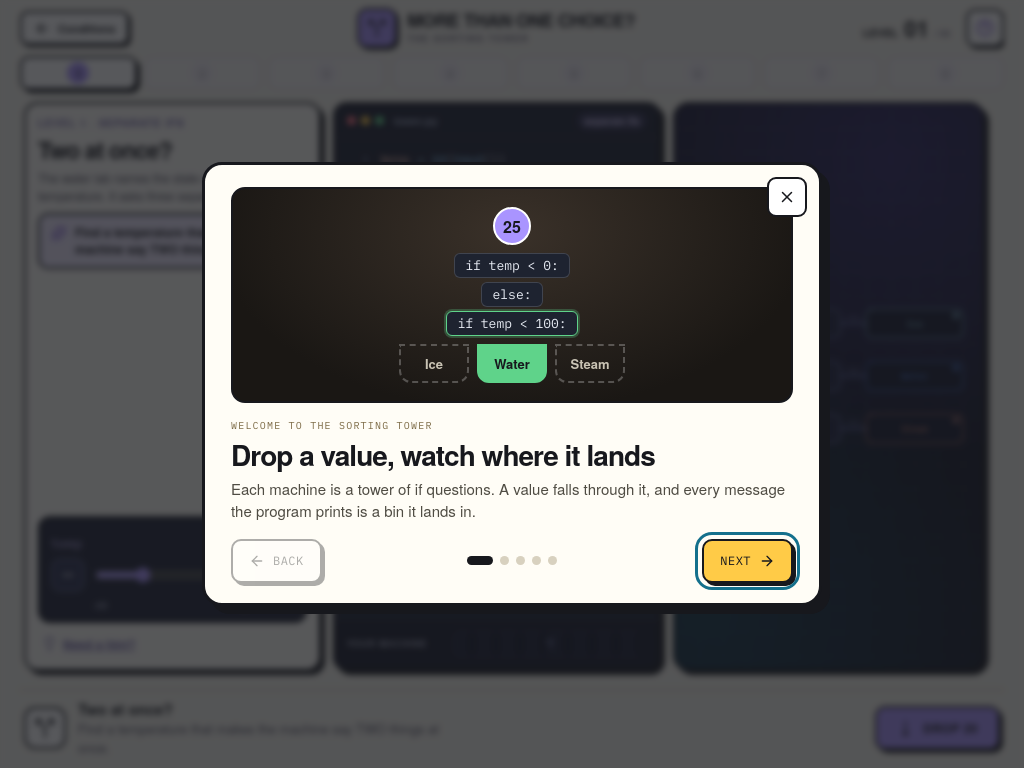
Test: More than one choice: the sorting tower › opens the intro on the first visit and again from the help button
Expected: the dialog named "Drop a value, watch where it lands" is shown, 202,162 -> 822,606
Click the button "NEXT" at (748, 561), box 702,539 -> 793,583
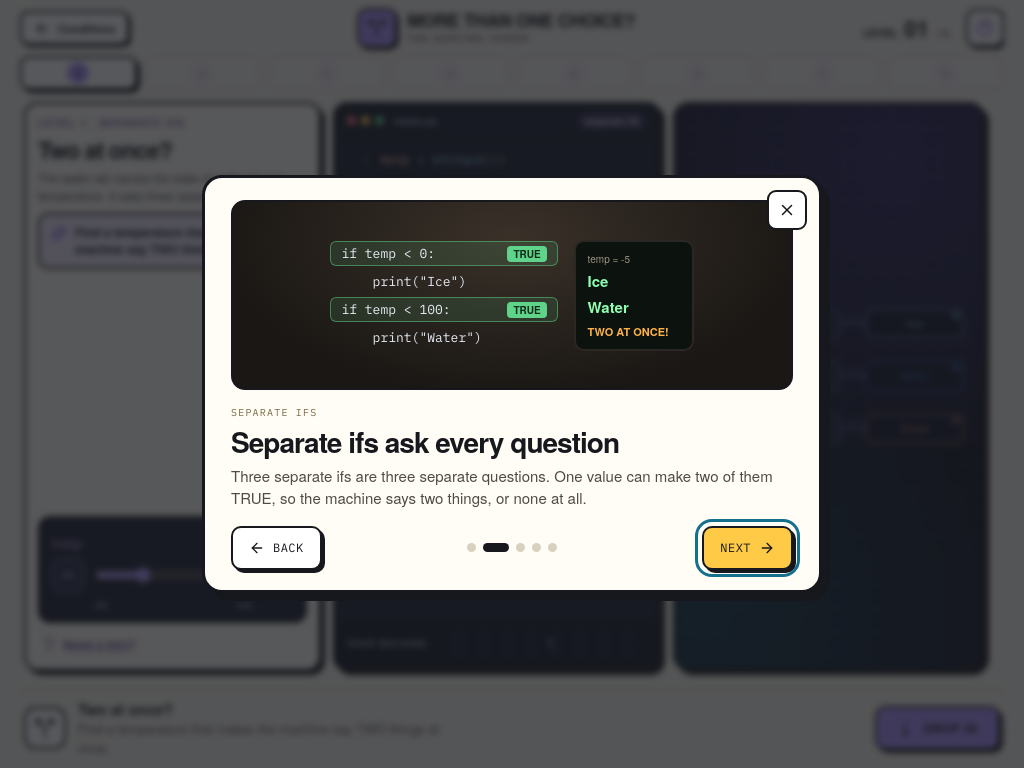
Click the button "NEXT" at (748, 548), box 702,526 -> 793,570
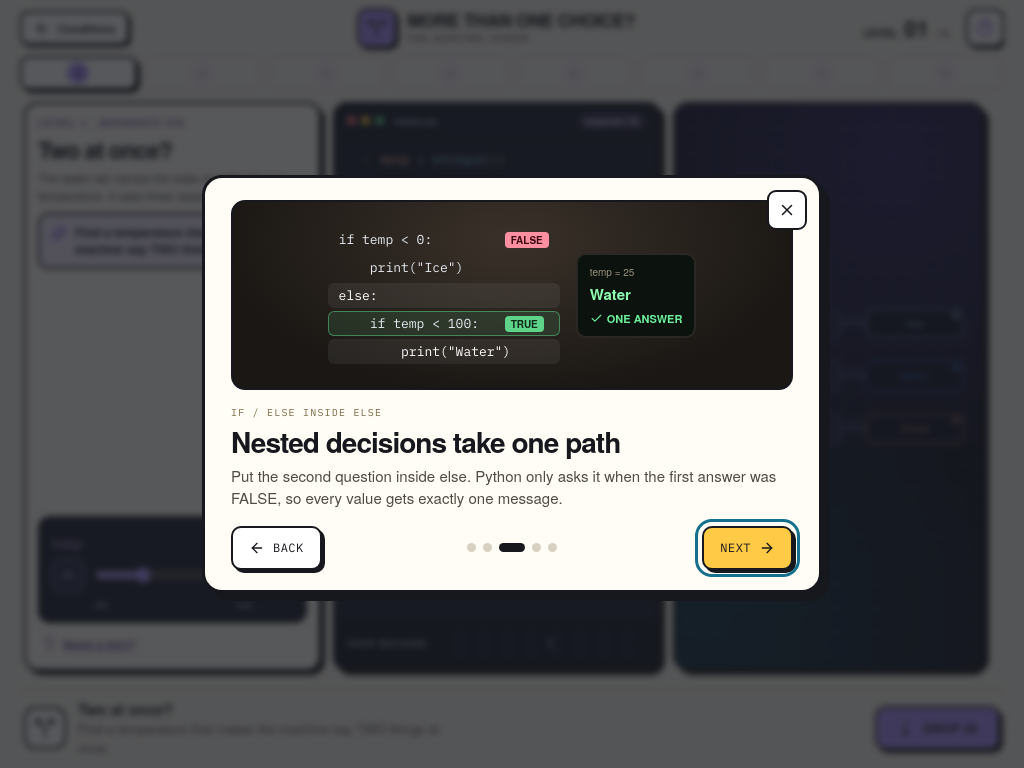
Click the button "NEXT" at (748, 548), box 702,526 -> 793,570
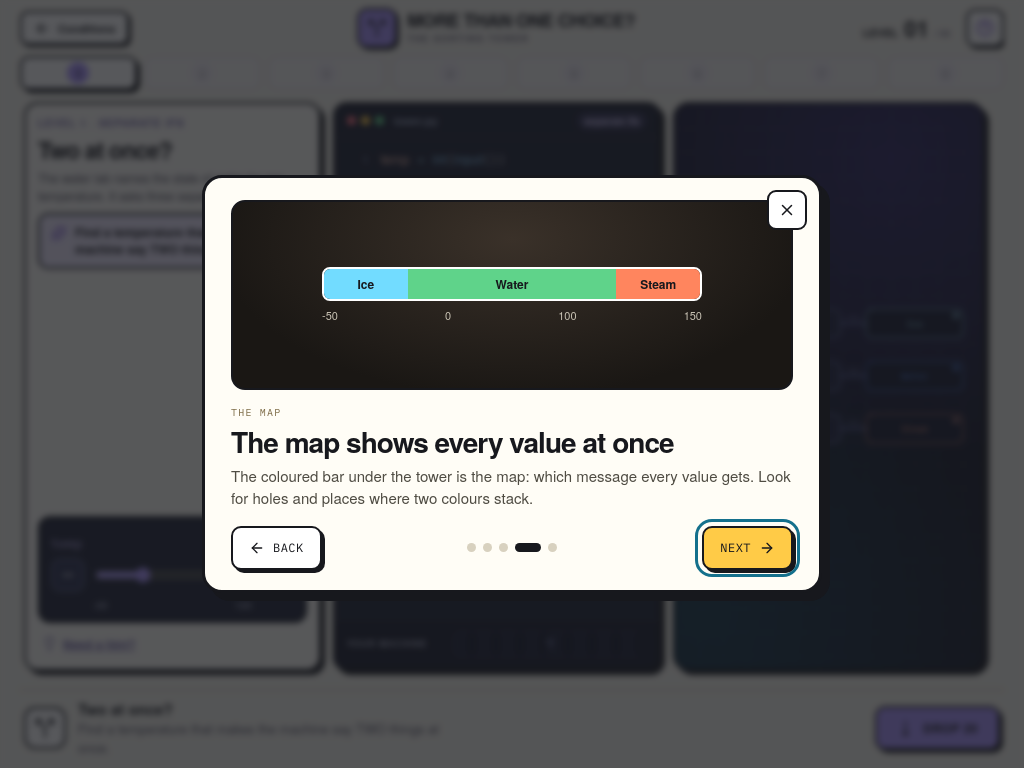
Click the button "NEXT" at (748, 548), box 702,526 -> 793,570
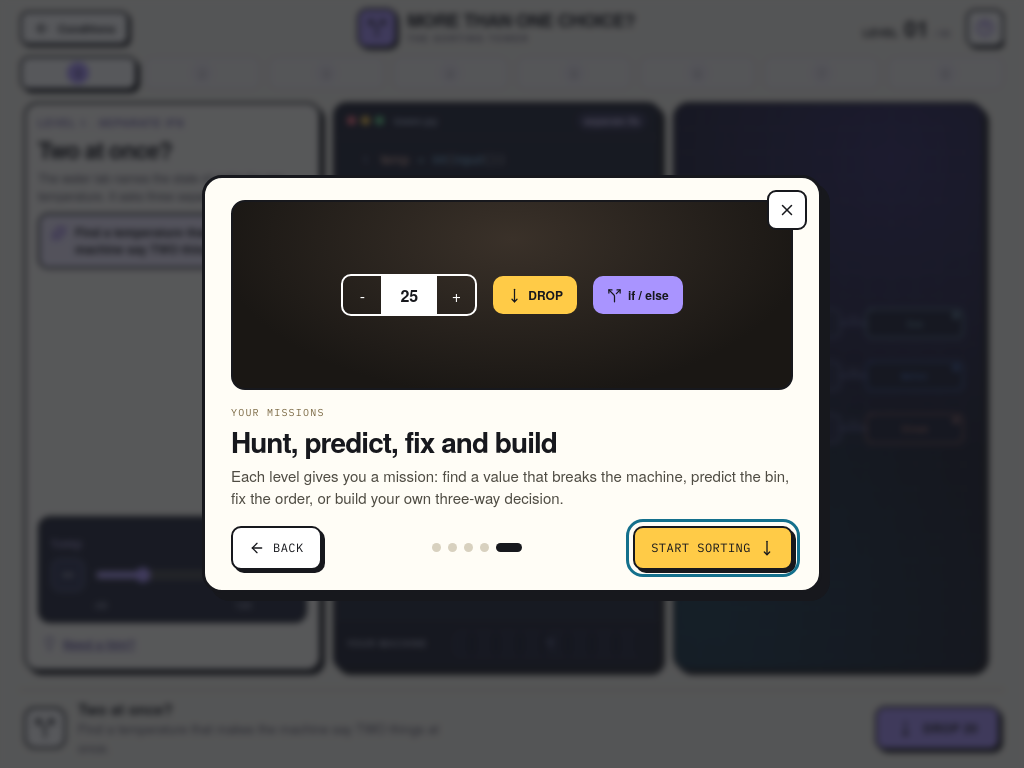
Click the button "START SORTING" at (713, 548), box 633,526 -> 793,570
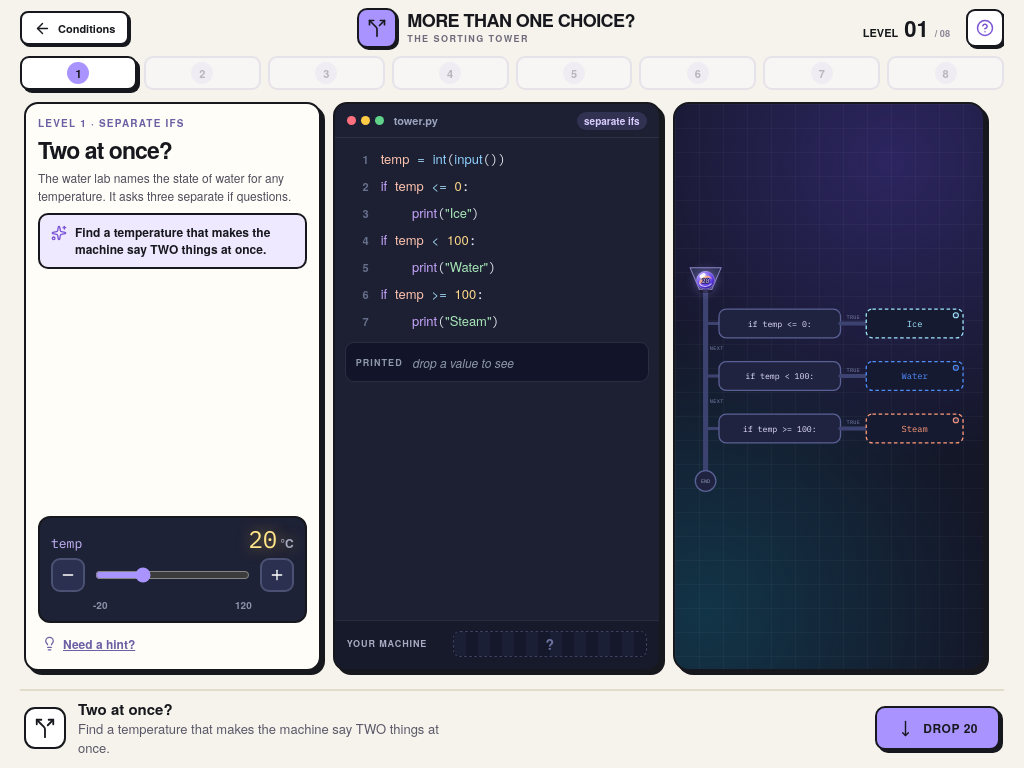
Expected: the dialog is gone
Click the button named "How the sorting tower works" at (985, 28), box 966,9 -> 1004,47
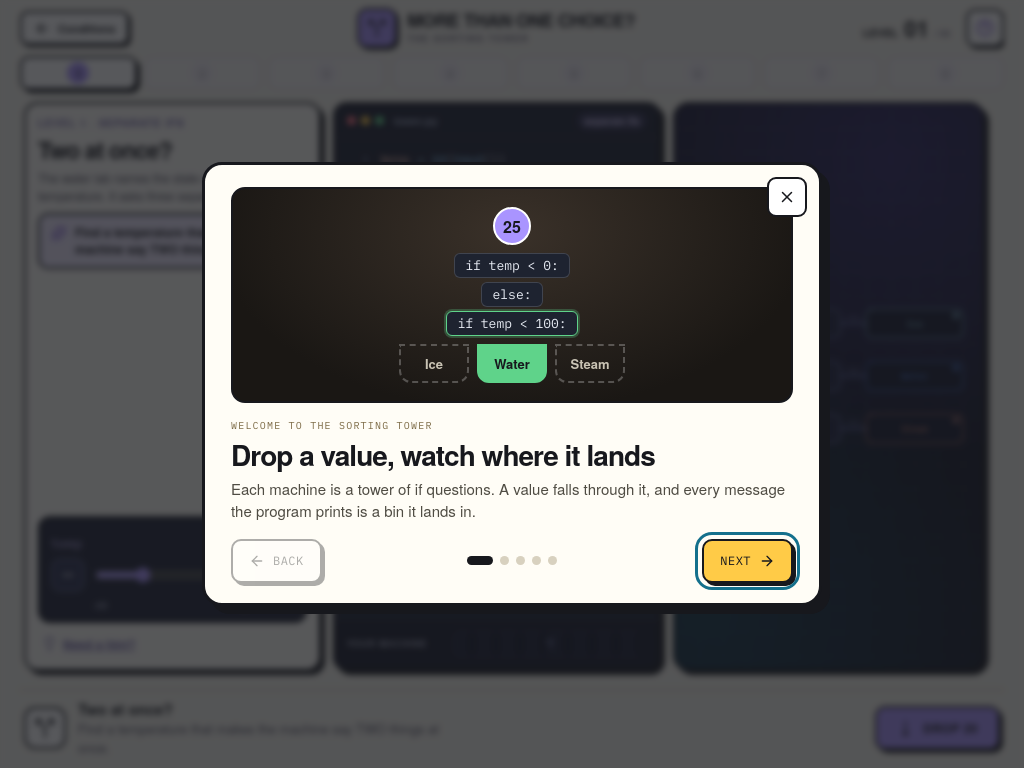
Expected: the dialog named "Drop a value, watch where it lands" is shown, 202,162 -> 822,606
